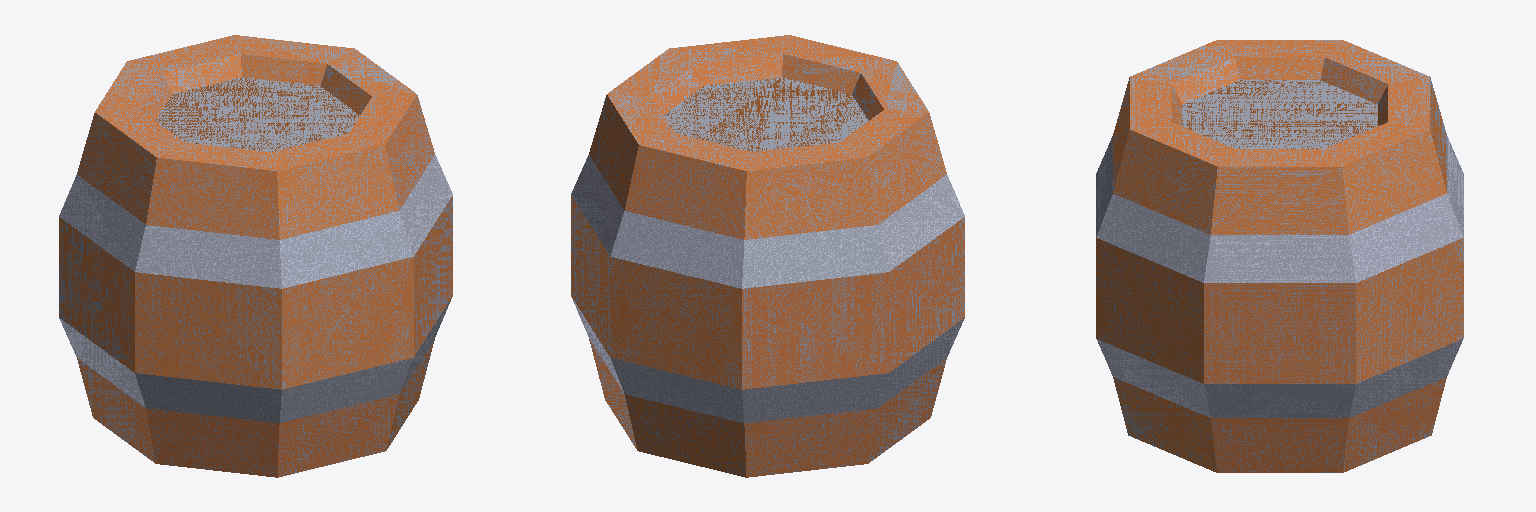
Rendered from barrel.obj.
The picture shows the model from 3 angles: view 1: azimuth 30°, elevation 25°; view 2: azimuth 150°, elevation 25°; view 3: azimuth 270°, elevation 25°; orthographic projection.
Visible parts, largest first — view 1: barrel; view 2: barrel; view 3: barrel.
Part boxes in pixels (x1,y1,x2,y2): barrel: (59,35,452,477); barrel: (571,35,964,477); barrel: (1096,40,1463,472).
Size of the model in its own units: 0.4358 by 0.4002 by 0.4358.